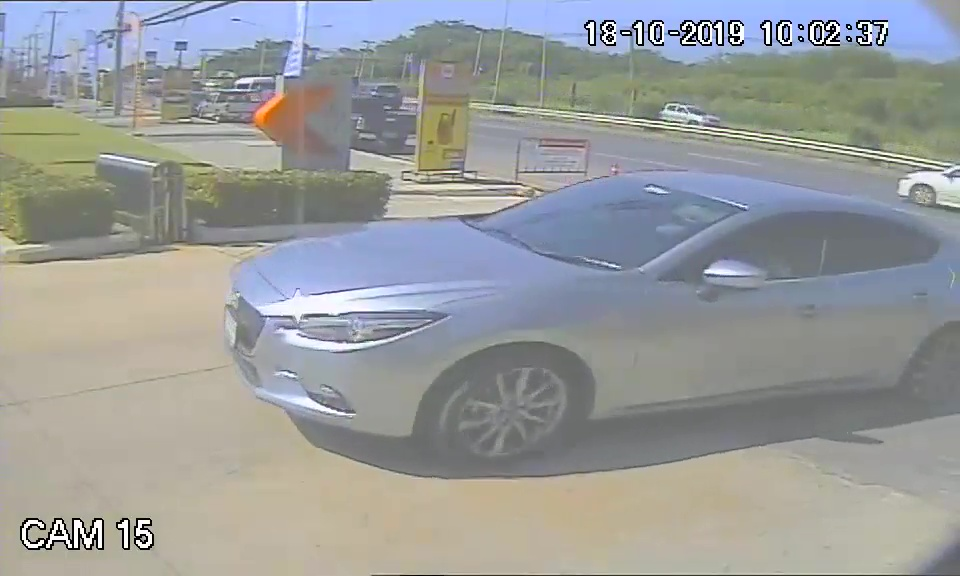sedan: (220, 173, 960, 463)
